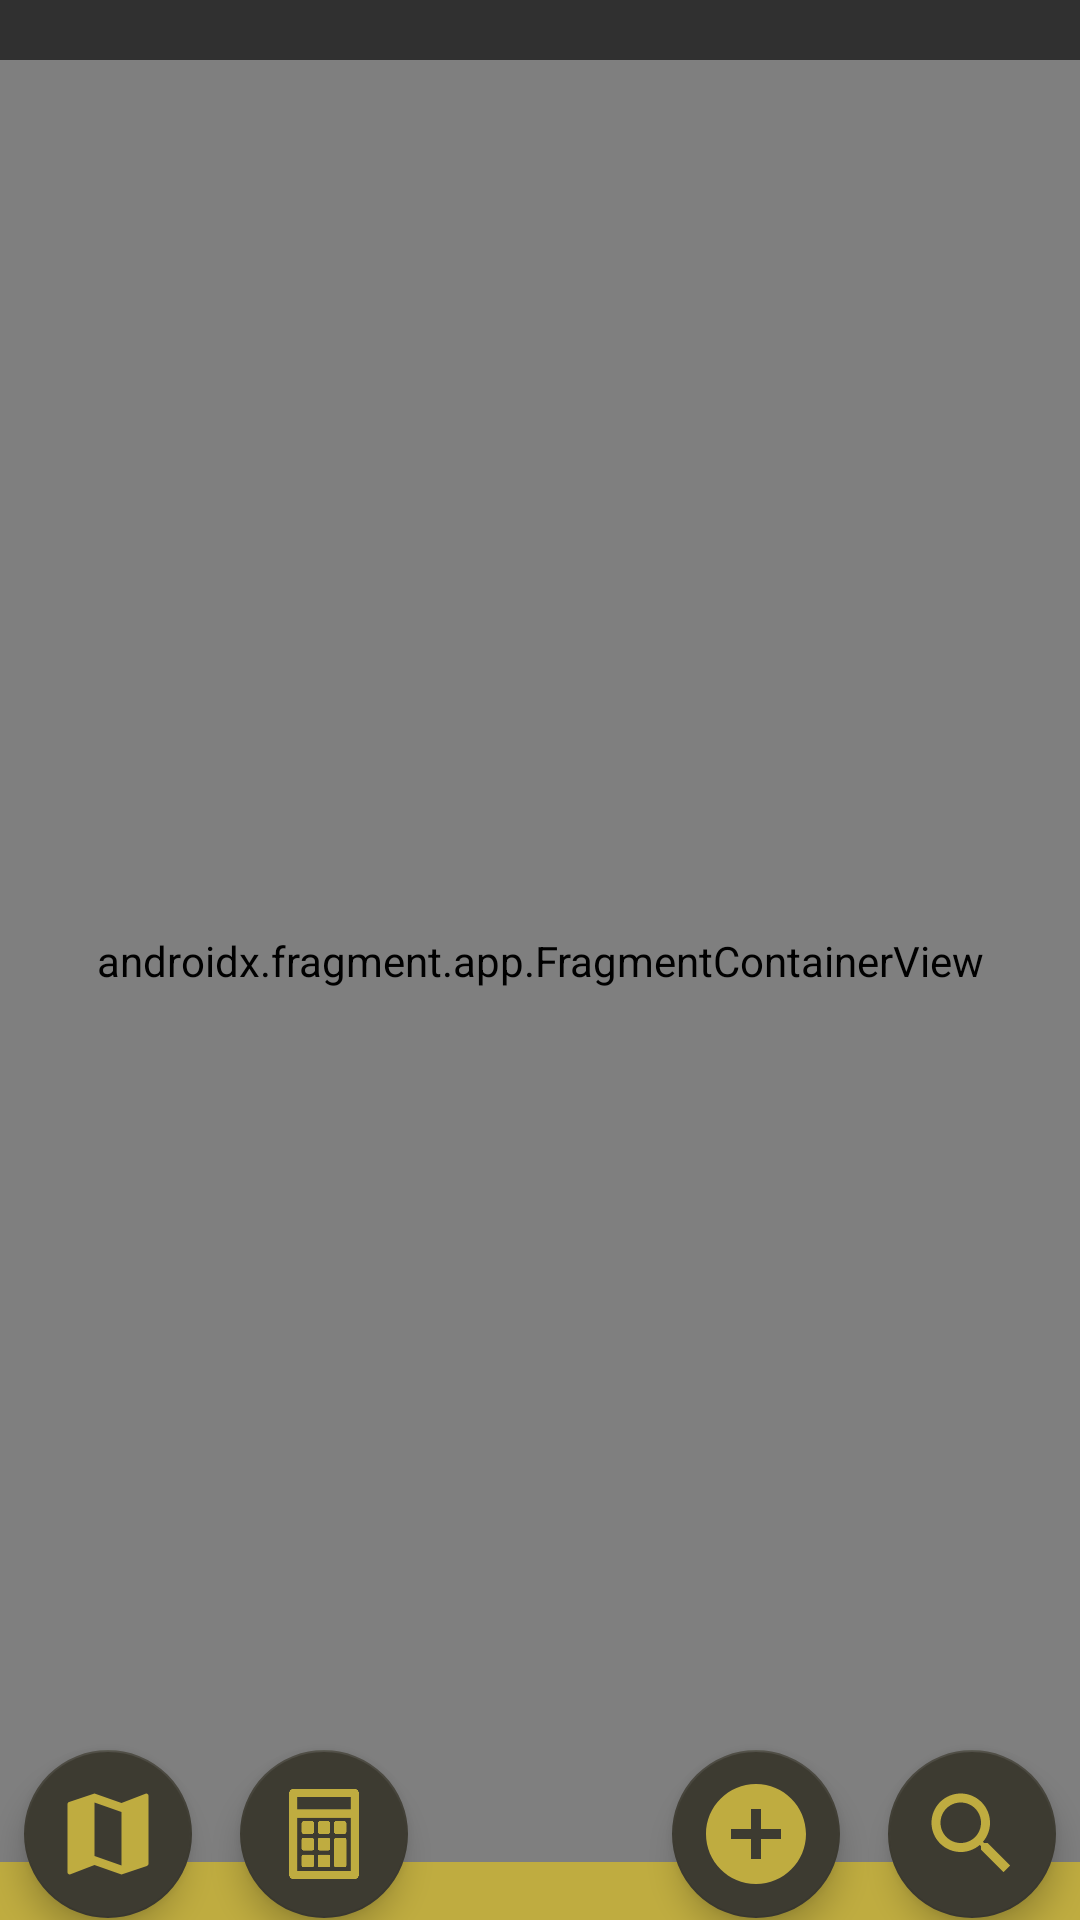

Locate icon controls on the screen. Image size 1080px×1920px, boxes as BBox(x1, y1, x2, y2).
add: BBox(672, 1750, 840, 1918)
map: BBox(24, 1750, 192, 1918)
mathematics: BBox(240, 1750, 408, 1918)
search: BBox(888, 1750, 1056, 1918)
